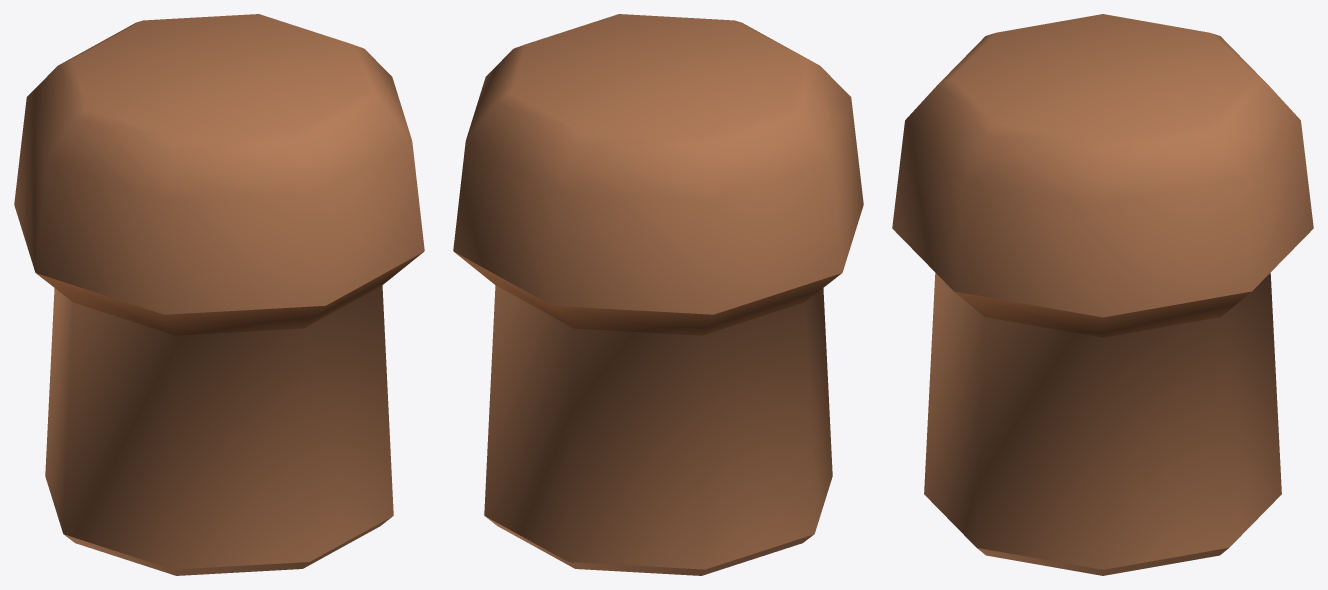
The model's file is VineCork.fbx.
3 views of the same model, side by side, from view 1: azimuth 30°, elevation 25°; view 2: azimuth 150°, elevation 25°; view 3: azimuth 270°, elevation 25° (orthographic).
Visible parts, largest first — view 1: VineCork; view 2: VineCork; view 3: VineCork.
Boxes of the visible parts, x1=… form: VineCork: x1=14, y1=14, x2=424, y2=575; VineCork: x1=453, y1=14, x2=863, y2=575; VineCork: x1=892, y1=14, x2=1313, y2=575.
Size of the model in its own units: 0.5574 by 0.6245 by 0.5574.
